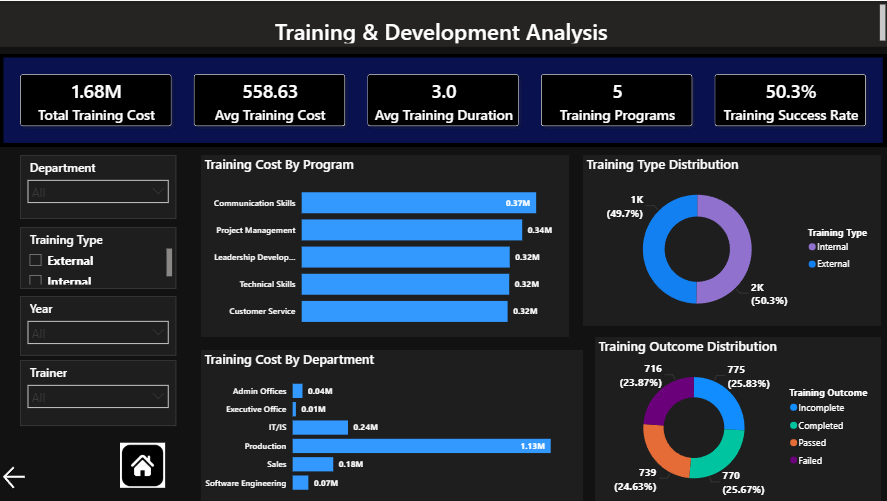

Layout of this report page (visuals, bound fields, positions):
{"tool":"powerbi","page":{"name":"Training & Development Analysis","canvas":[1280,720],"ordinal":3},"visuals":[{"type":"cardVisual","fields":{"Data":["Date_Table.Training Cost","Avg(HR_DATA.Training Cost)","Avg(HR_DATA.Training Duration)","Count(HR_DATA.Training Program Name)","Date_Table.Training Success Rate"]},"box":[0,76.3,1280.2,133.9],"z":0},{"type":"clusteredBarChart","title":"Training Cost By Program","fields":{"Category":["HR_DATA.Training Program Name"],"Y":["Sum(HR_DATA.Training Cost)"]},"box":[289.4,221.8,529.9,262.1],"z":1000},{"type":"donutChart","title":"Training Outcome Distribution","fields":{"Category":["HR_DATA.Training Outcome"],"Y":["Date_Table.Total Trainings"]},"box":[856.8,483.8,411.8,236.2],"z":2000},{"type":"clusteredBarChart","title":"Training Cost By Department","fields":{"Y":["Date_Table.Training Cost"],"Category":["HR_DATA.Department"]},"box":[289.4,502.6,550.1,217.4],"z":3000},{"type":"donutChart","title":"Training Type Distribution","fields":{"Category":["HR_DATA.Training Type"],"Y":["Date_Table.Total Trainings"]},"box":[839.5,221.8,429.1,246.2],"z":4000},{"type":"slicer","fields":{"Values":["HR_DATA.Department"]},"box":[28.8,221.8,224.6,92.2],"z":5000},{"type":"slicer","fields":{"Values":["HR_DATA.Training Type"]},"box":[28.8,325.4,224.6,89.3],"z":6000},{"type":"slicer","fields":{"Values":["Date_Table.Year"]},"box":[28.8,424.8,224.6,86.4],"z":7000},{"type":"slicer","fields":{"Values":["HR_DATA.Trainer"]},"box":[28.8,517,224.6,95],"z":8000},{"type":"image","box":[172.8,635,64.8,66.2],"z":9000},{"type":"actionButton","box":[0,665.3,66.2,41.8],"z":10000},{"type":"textbox","box":[0,0,1280.2,66.2],"z":11000}]}

Visuals, with their boxes on the page's 1280x720 design canvas (x1, y1, x2, y2). These are canvas units, not pixel positions in the 887x501 screenshot, which may show the page scaled, cropped or inside an application window:
cardVisual - Date_Table.Training Cost x Avg(HR_DATA.Training Cost): <bbox>0, 76, 1280, 210</bbox>
"Training Cost By Program" clusteredBarChart: <bbox>289, 222, 819, 484</bbox>
"Training Outcome Distribution" donutChart: <bbox>857, 484, 1269, 720</bbox>
"Training Cost By Department" clusteredBarChart: <bbox>289, 503, 840, 720</bbox>
"Training Type Distribution" donutChart: <bbox>840, 222, 1269, 468</bbox>
slicer - HR_DATA.Department: <bbox>29, 222, 253, 314</bbox>
slicer - HR_DATA.Training Type: <bbox>29, 325, 253, 415</bbox>
slicer - Date_Table.Year: <bbox>29, 425, 253, 511</bbox>
slicer - HR_DATA.Trainer: <bbox>29, 517, 253, 612</bbox>
image: <bbox>173, 635, 238, 701</bbox>
actionButton: <bbox>0, 665, 66, 707</bbox>
textbox: <bbox>0, 0, 1280, 66</bbox>
